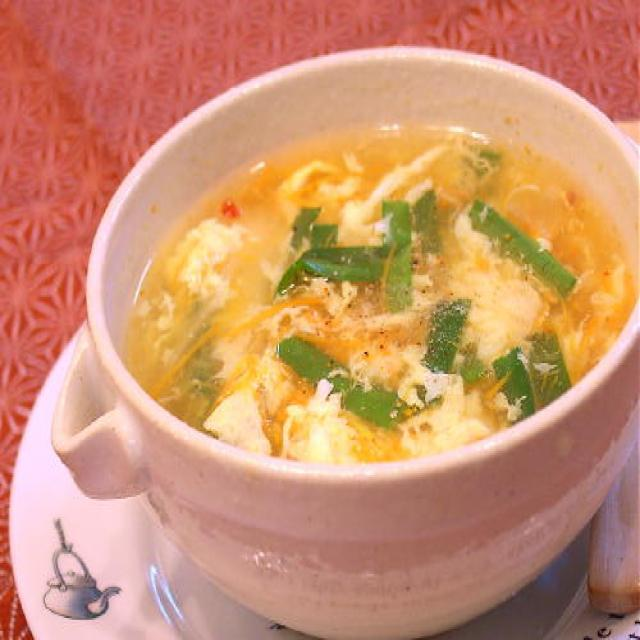汤锅炖物: (7, 42, 640, 640)
